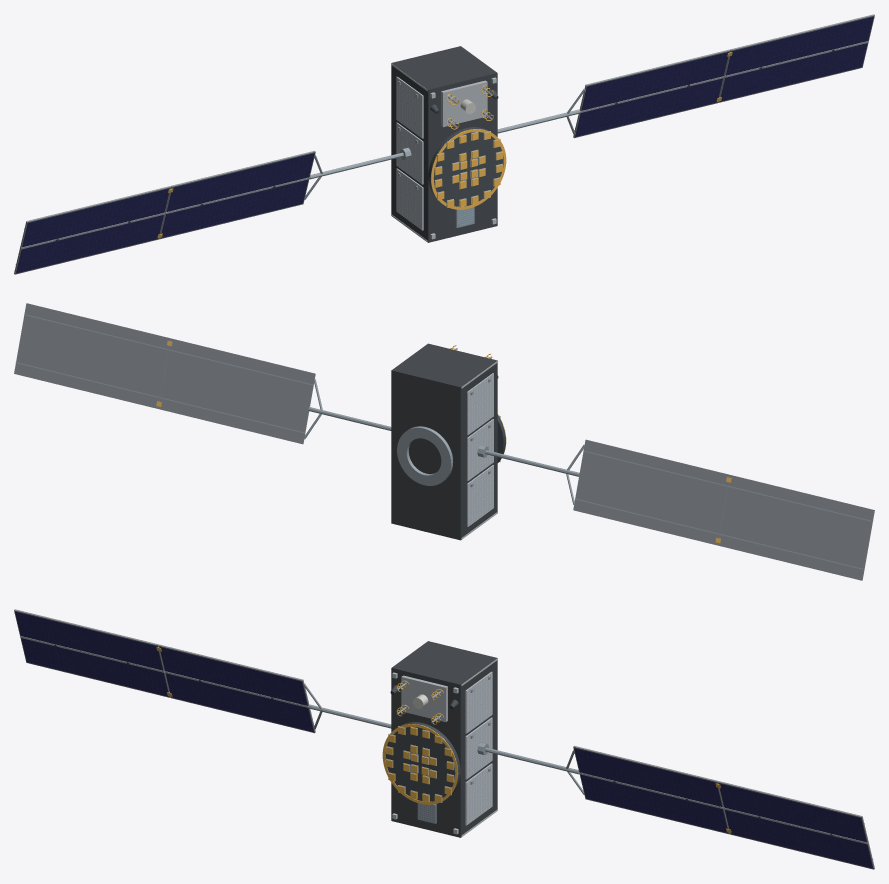
Rendered from galileo-foc.glb.
3 renders of one model, top to bottom at view 1: azimuth 30°, elevation 25°; view 2: azimuth 150°, elevation 25°; view 3: azimuth 330°, elevation 25°, orthographic.
Visible parts, largest first — view 1: Photovoltaic laminate (×8), Insulated spacecraft body, Optical radiator bay (×3), Solar array leaf (×4), L-band navigation antenna carrier, Search and rescue antenna base, Antenna retaining rim; view 2: Solar array leaf (×4), Insulated spacecraft body, Optical radiator bay (×3), Launch interface ring; view 3: Photovoltaic laminate (×8), Insulated spacecraft body, Optical radiator bay (×3), Solar array leaf (×4), L-band navigation antenna carrier, Search and rescue antenna base, Antenna retaining rim.
Part boxes in pixels (<box>): Photovoltaic laminate (×8): <box>16,16,873,273</box>; Insulated spacecraft body: <box>391,46,497,242</box>; Optical radiator bay (×3): <box>396,76,423,230</box>; Solar array leaf (×4): <box>14,14,874,274</box>; L-band navigation antenna carrier: <box>428,127,503,206</box>; Search and rescue antenna base: <box>441,80,487,127</box>; Antenna retaining rim: <box>430,129,506,209</box>; Solar array leaf (×4): <box>14,303,874,580</box>; Insulated spacecraft body: <box>391,343,497,540</box>; Optical radiator bay (×3): <box>467,373,493,526</box>; Launch interface ring: <box>397,426,453,485</box>; Photovoltaic laminate (×8): <box>15,611,872,868</box>; Insulated spacecraft body: <box>391,641,497,837</box>; Optical radiator bay (×3): <box>465,671,492,825</box>; Solar array leaf (×4): <box>14,609,874,869</box>; L-band navigation antenna carrier: <box>385,722,460,801</box>; Search and rescue antenna base: <box>401,675,447,722</box>; Antenna retaining rim: <box>382,724,458,804</box>.
Bounding box in the file's own units: 14.66 × 2.53 × 1.51.
Materials: 11 (2 with a texture image).
